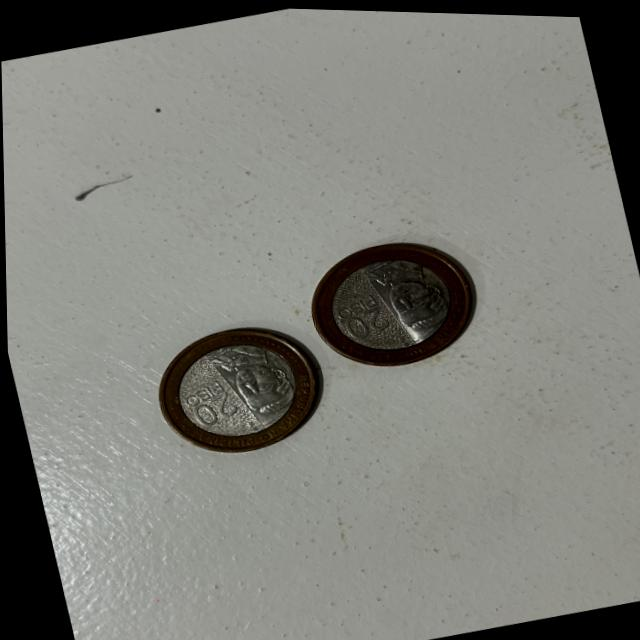20_New_Front: (327, 288, 394, 345), (177, 377, 240, 430)
